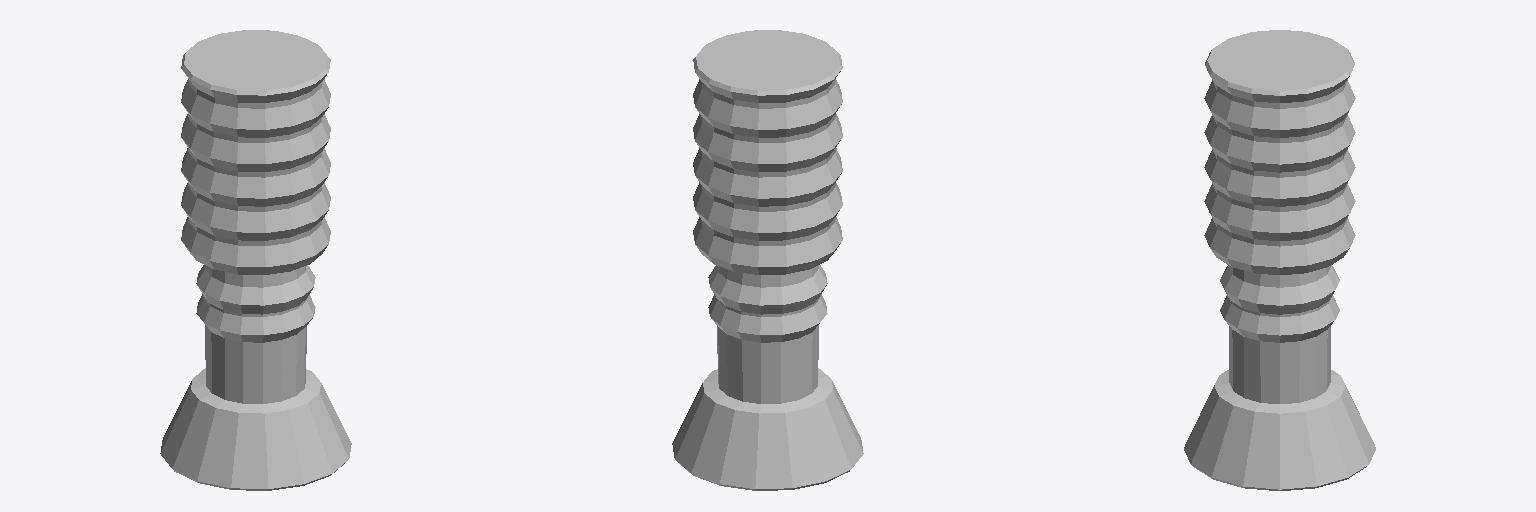
The model's file is Kapitel_1_Low_01.obj.
The picture shows the model from 3 angles: view 1: azimuth 30°, elevation 25°; view 2: azimuth 150°, elevation 25°; view 3: azimuth 270°, elevation 25°; orthographic projection.
Parts seen in each view (by area): view 1: default; view 2: default; view 3: default.
Boxes of the visible parts, <box> form: default: <box>160,30,351,490</box>; default: <box>672,30,863,490</box>; default: <box>1184,30,1375,490</box>.
Bounding box in the file's own units: 0.4472 × 1 × 0.4472.